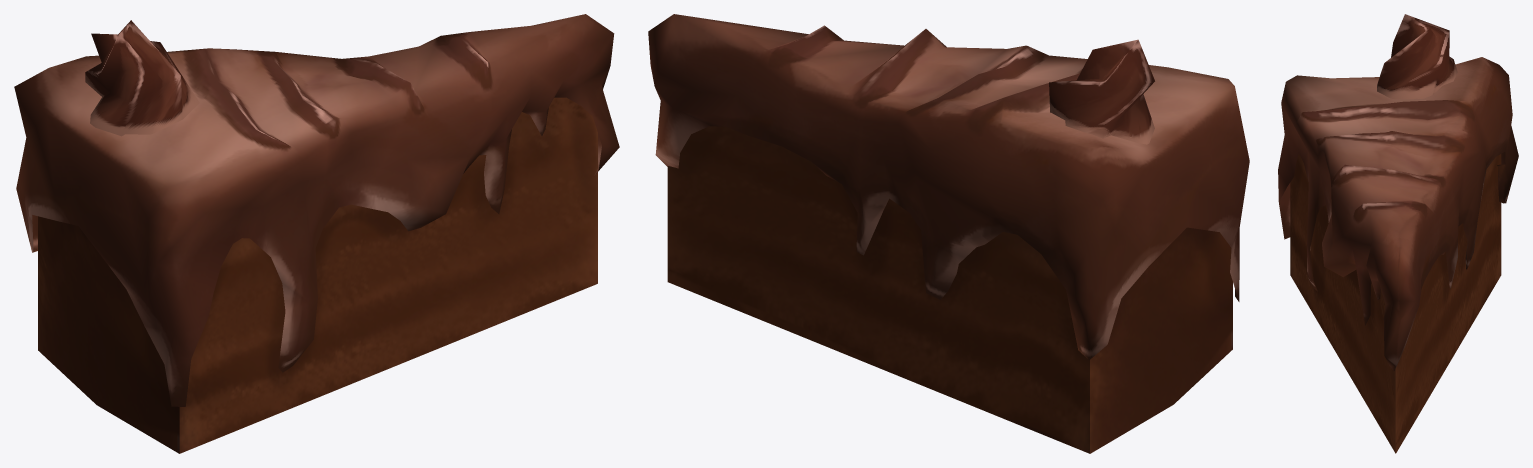
The model's file is cakechocolatewithtop.fbx.
3 views of the same model, side by side, from view 1: azimuth 30°, elevation 25°; view 2: azimuth 150°, elevation 25°; view 3: azimuth 270°, elevation 25° (orthographic). The views are drawn at different scales.
Visible parts, largest first — view 1: Cylinder.004, cakechocolatewithtop, Sphere.007; view 2: Cylinder.004, cakechocolatewithtop, Sphere.007; view 3: Cylinder.004, cakechocolatewithtop, Sphere.007.
Part boxes in pixels (box(x1,y1,x2,y2)): Cylinder.004: box(14, 14, 619, 406); cakechocolatewithtop: box(38, 97, 597, 453); Sphere.007: box(85, 20, 199, 136); Cylinder.004: box(648, 14, 1249, 360); cakechocolatewithtop: box(667, 126, 1232, 453); Sphere.007: box(1049, 39, 1154, 144); Cylinder.004: box(1278, 57, 1518, 370); cakechocolatewithtop: box(1290, 154, 1501, 453); Sphere.007: box(1377, 14, 1457, 99).
Bounding box in the file's own units: 30.19 × 19.42 × 15.81.
